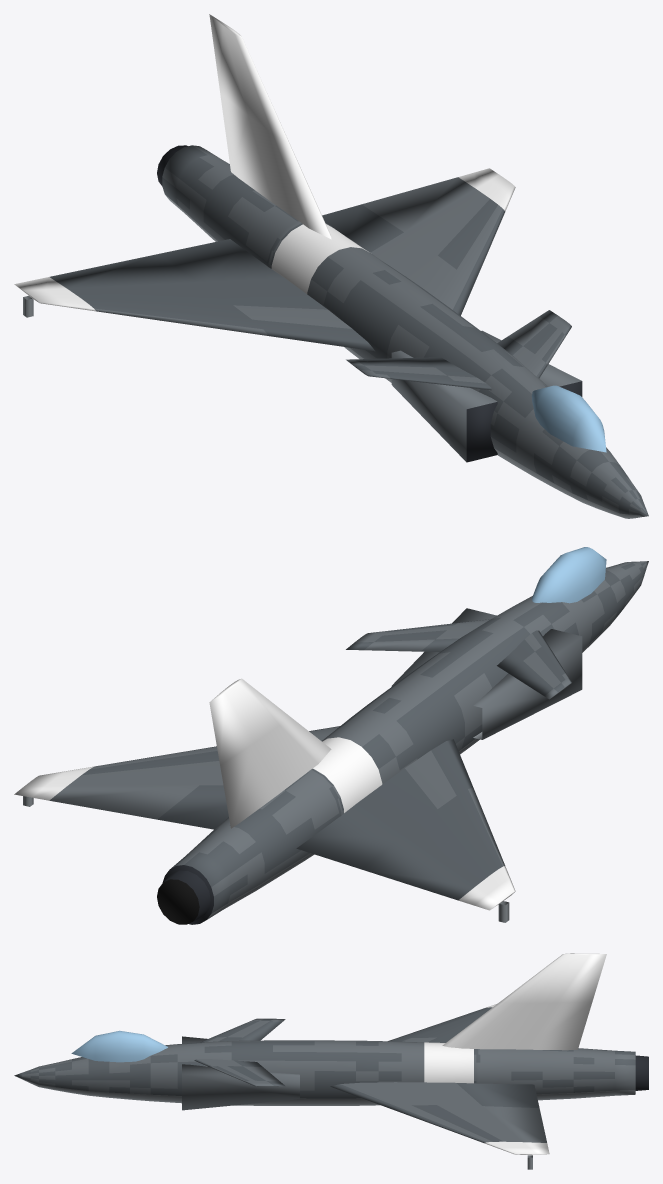
File: jas39c.glb
The picture shows the model from 3 angles, top to bottom: view 1: azimuth 30°, elevation 25°; view 2: azimuth 150°, elevation 25°; view 3: azimuth 270°, elevation 25°; orthographic projection. The views are drawn at different scales.
Parts seen in each view (by area): view 1: body; view 2: body; view 3: body.
Part boxes in pixels (x1=…): body: x1=14, y1=14, x2=648, y2=518; body: x1=14, y1=547, x2=648, y2=924; body: x1=14, y1=953, x2=648, y2=1169.
Bounding box in the file's own units: 8.52 × 3.73 × 14.4.
